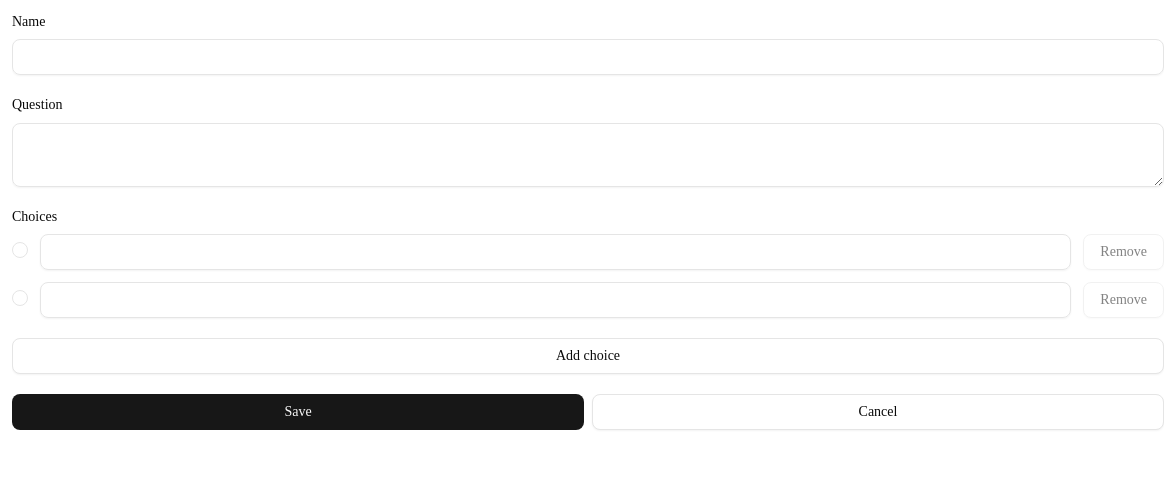
McqForm › API error is shown and navigation does not happen
Type "Math basics" into the field labelled "Name" at (588, 57), box [12, 39, 1164, 75]
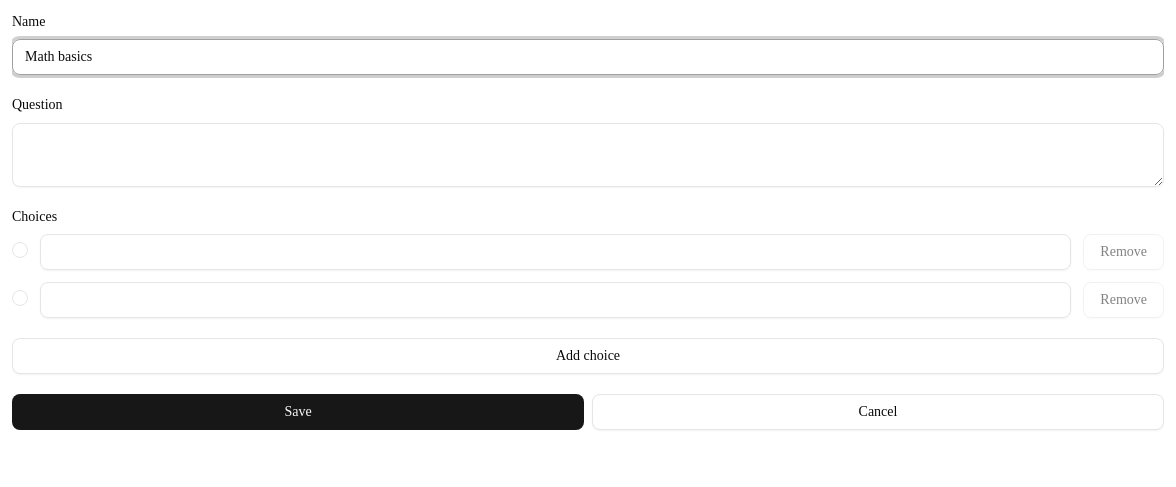
Type "What is 2+2?" into the text box labelled "Question" at (588, 154), box [12, 122, 1164, 186]
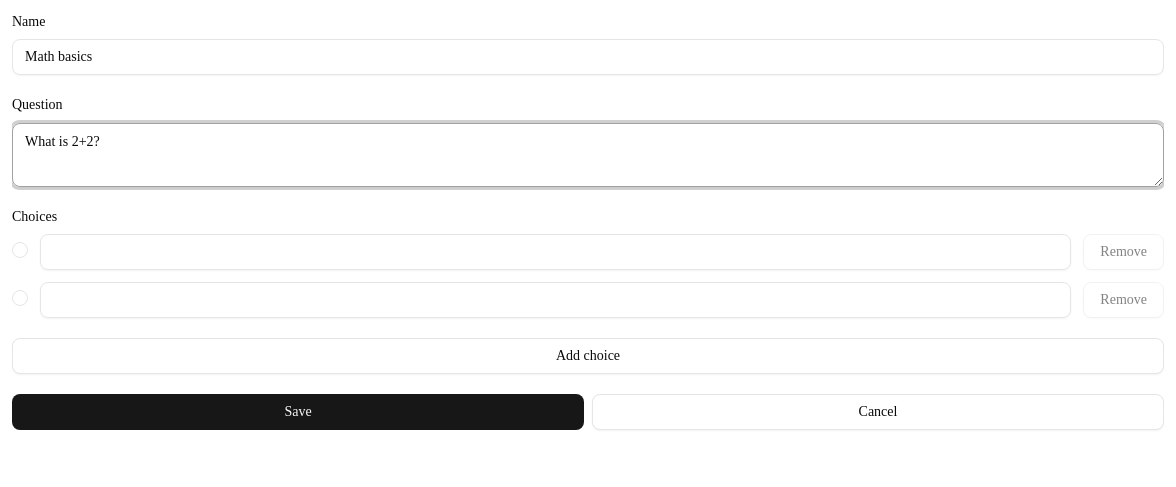
Type "3" into the field named "choice 1" at (556, 252), box [40, 234, 1071, 270]
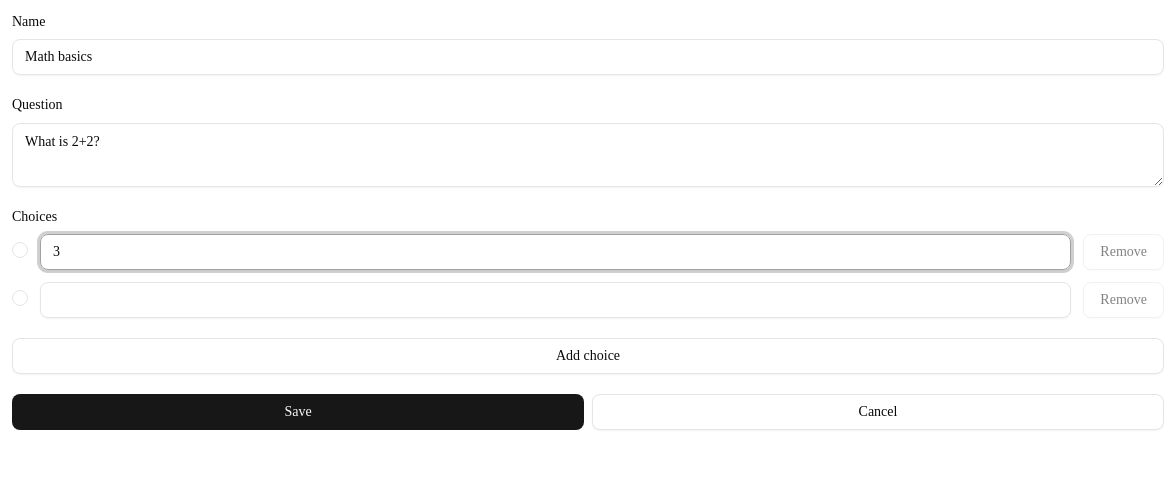
Type "4" into the field named "choice 2" at (556, 300), box [40, 282, 1071, 318]
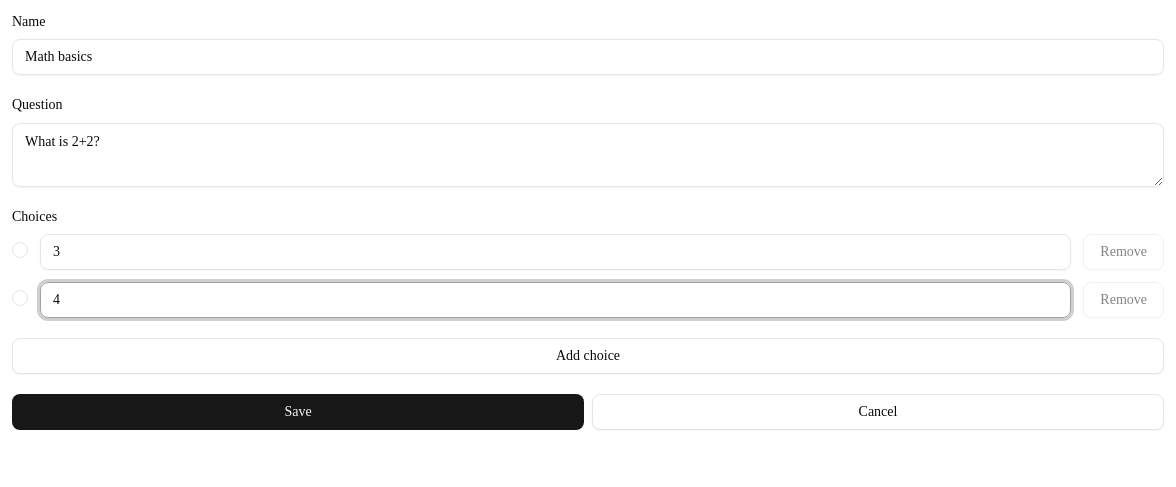
Click the radio button named "mark choice 2 as correct" at (20, 298), box [12, 290, 28, 306]
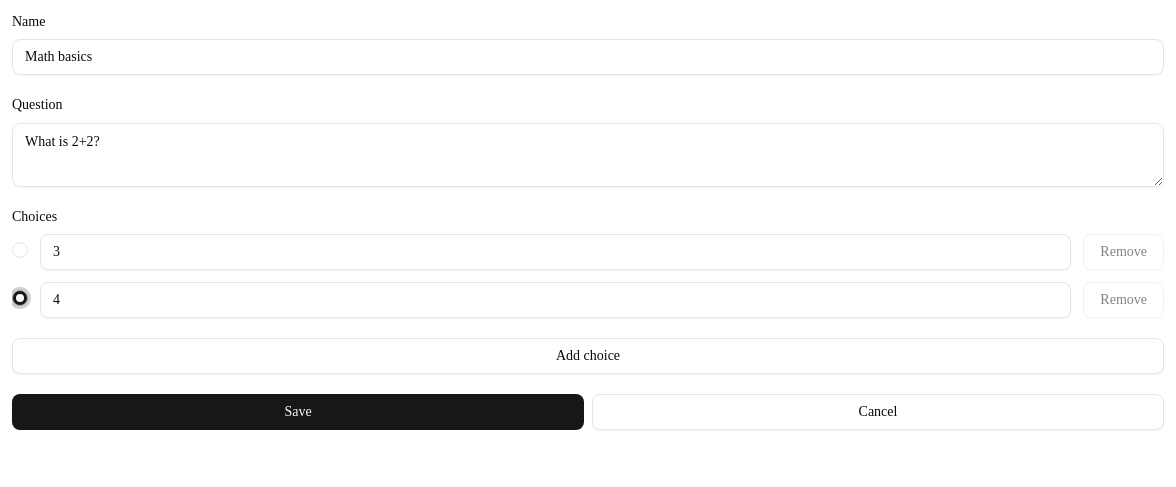
Click the button "Save" at (298, 412), box [12, 394, 584, 430]
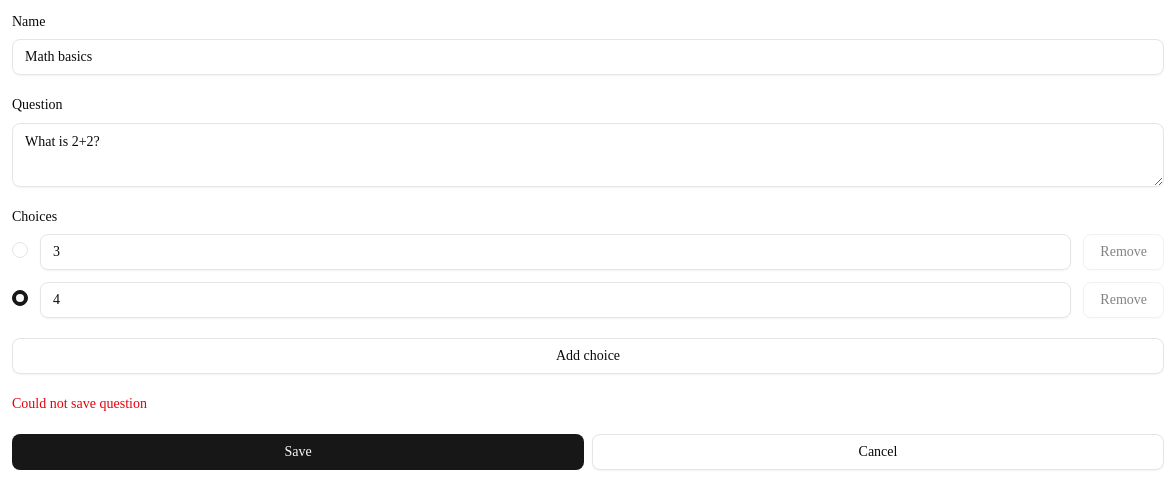
Now the message reads "Could not save question", box [12, 396, 147, 411]
